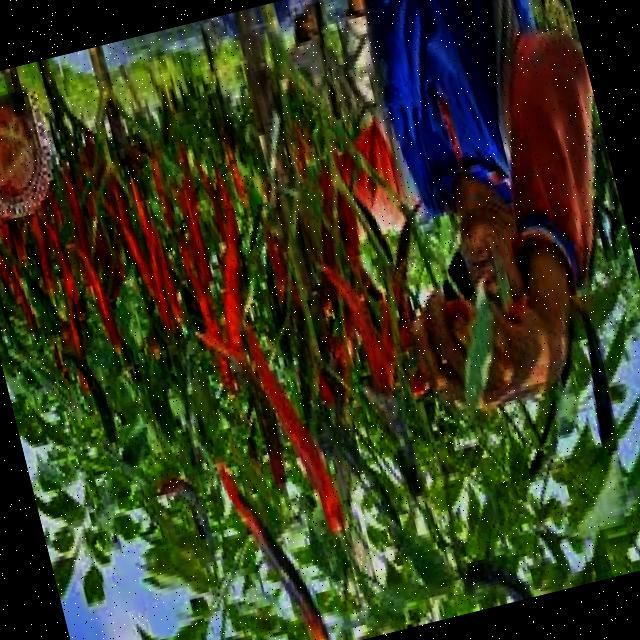healthy: (160, 90, 402, 404)
